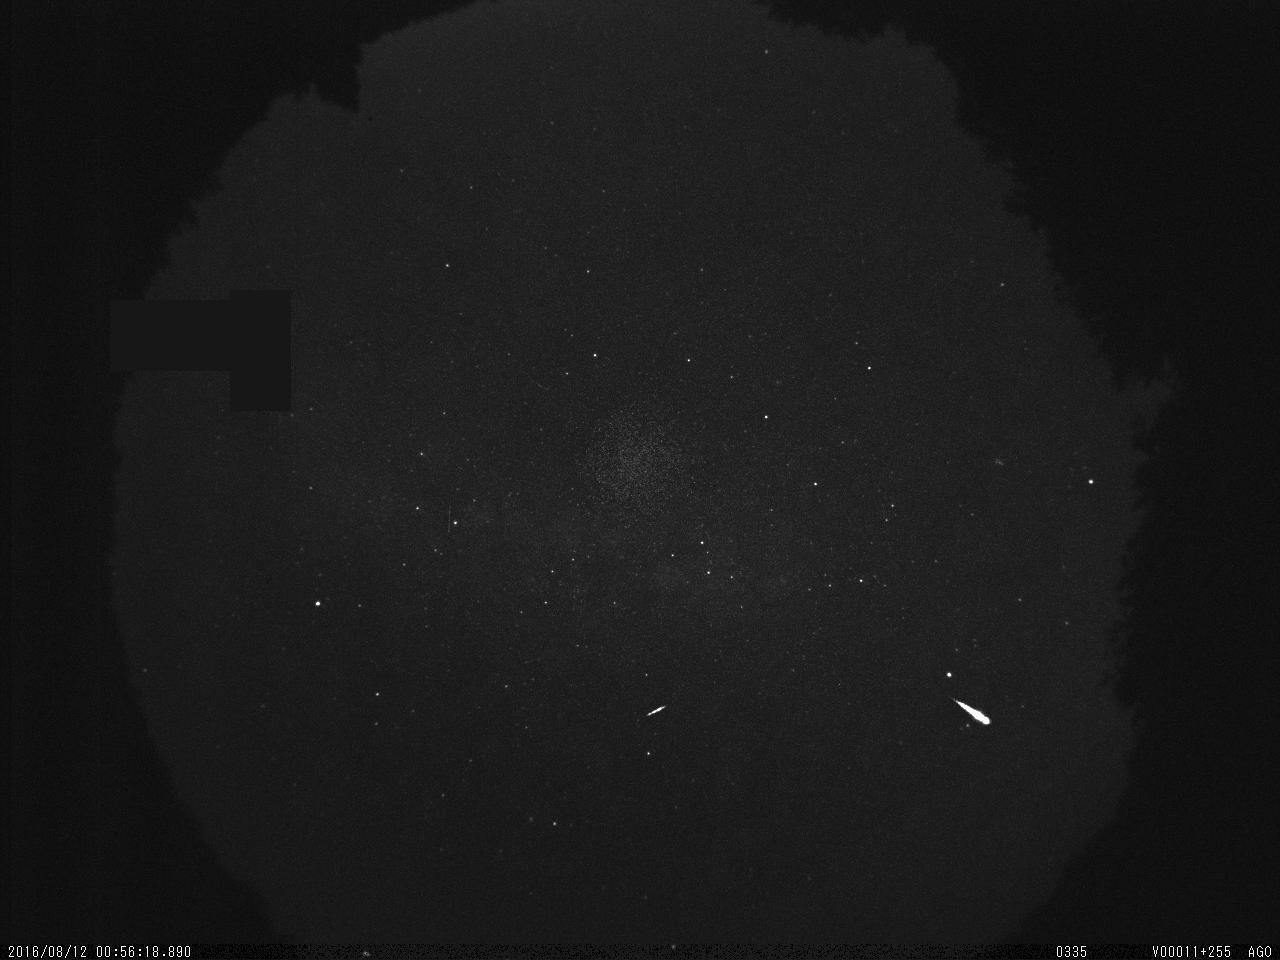meteor: (928, 671, 1022, 746)
